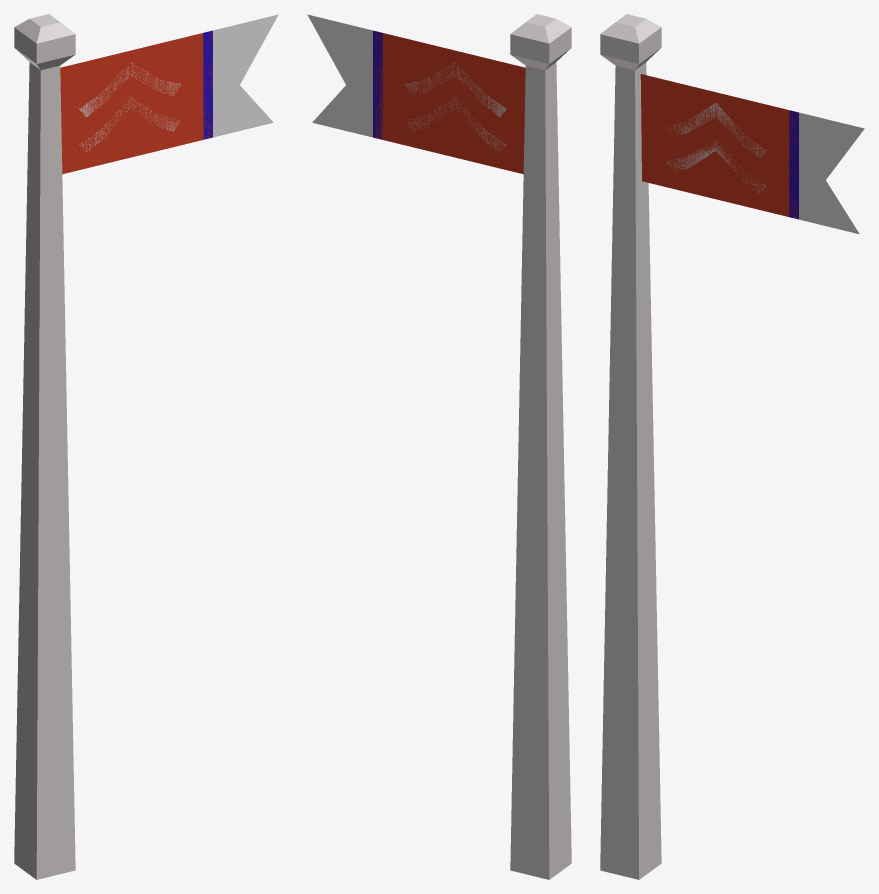
Rendered from obj_flagpole_2_0.obj.
3 renders of one model, left to right at view 1: azimuth 30°, elevation 25°; view 2: azimuth 150°, elevation 25°; view 3: azimuth 330°, elevation 25°, orthographic.
Size of the model in its own units: 0.8125 by 2.59 by 0.125.
